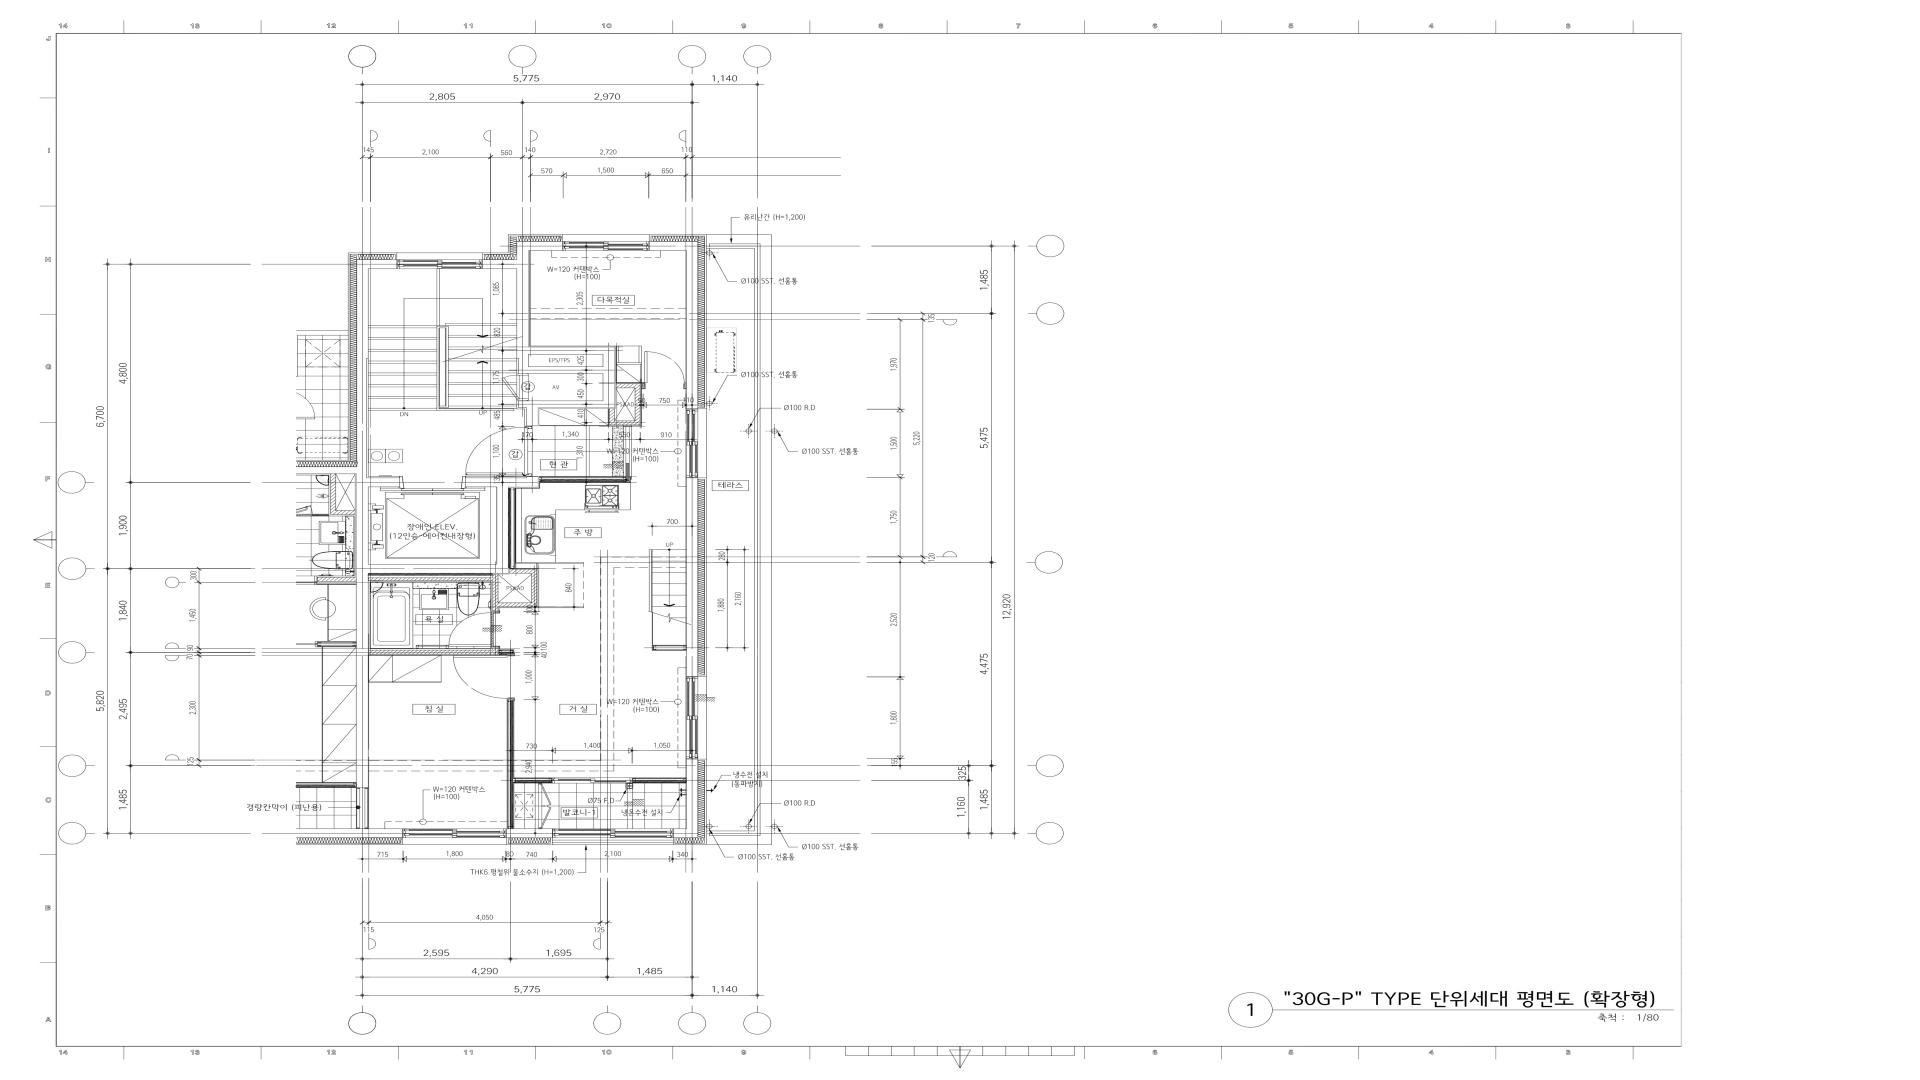door: (464, 426, 533, 476), (452, 654, 514, 699), (448, 611, 500, 649), (641, 351, 686, 389), (501, 373, 529, 401), (624, 425, 632, 479)
wall: (356, 260, 369, 771), (686, 477, 698, 676), (674, 758, 698, 837), (686, 251, 698, 409), (517, 241, 529, 373), (369, 564, 497, 572), (497, 487, 508, 572), (465, 476, 538, 487), (356, 771, 369, 828), (603, 347, 615, 401), (529, 347, 603, 355), (506, 699, 510, 828), (538, 401, 615, 407), (529, 367, 603, 373), (369, 578, 492, 582), (369, 650, 492, 654), (650, 241, 698, 251), (510, 487, 516, 568), (356, 828, 402, 837), (506, 828, 553, 837), (538, 476, 624, 480), (529, 241, 563, 251), (483, 260, 517, 269), (369, 477, 400, 487), (369, 260, 397, 269), (492, 572, 498, 611), (649, 550, 653, 612), (634, 384, 641, 421), (525, 410, 538, 426), (651, 645, 687, 650), (518, 401, 538, 410), (531, 574, 537, 607), (508, 568, 537, 574), (633, 778, 687, 781), (498, 603, 531, 607), (609, 421, 640, 425), (513, 778, 553, 781), (615, 384, 634, 388), (609, 407, 615, 421), (498, 649, 514, 651), (492, 649, 498, 654)
window: (553, 828, 674, 839), (686, 676, 698, 760), (402, 828, 506, 837), (686, 409, 698, 477), (563, 241, 650, 251), (397, 260, 483, 269), (553, 778, 633, 783)
